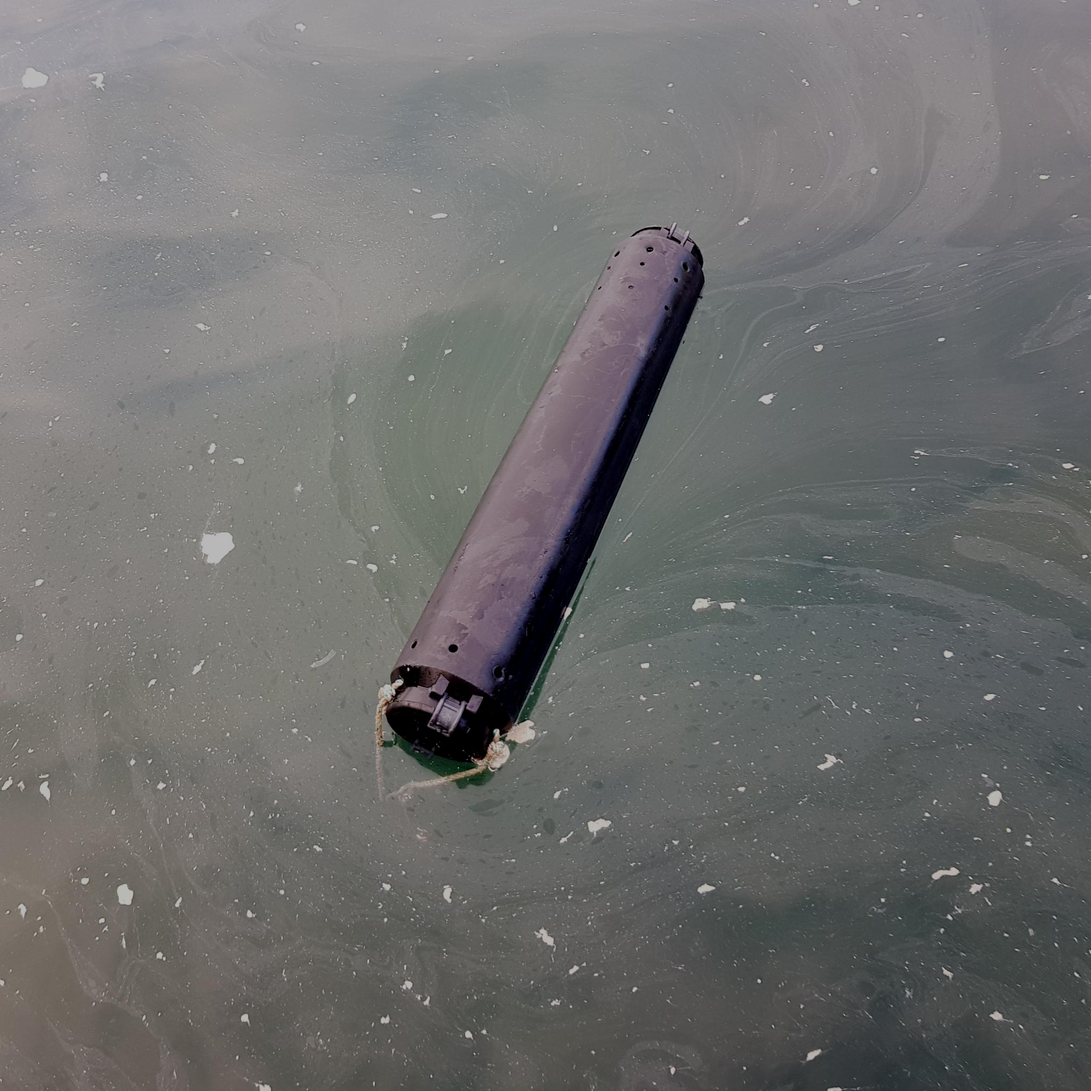sampah_terapung: (386, 222, 705, 762), (375, 683, 510, 803)
